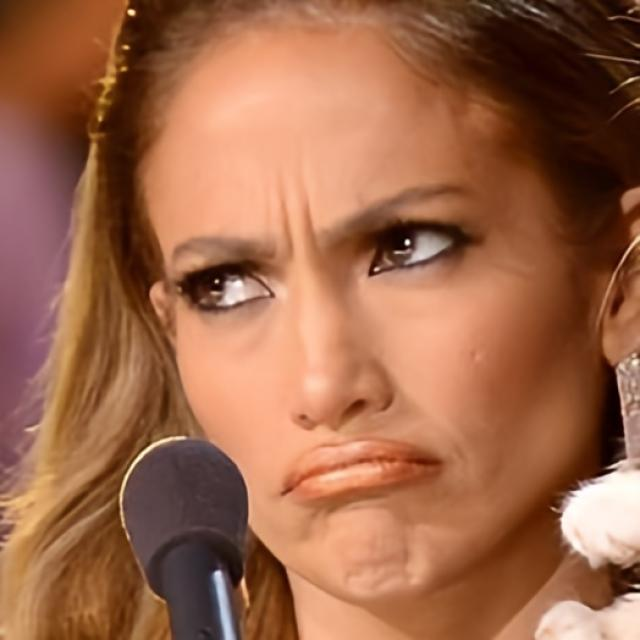anger: (147, 12, 593, 606)
